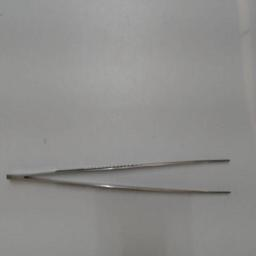DeBakey Dissector: (0, 151, 236, 205)
